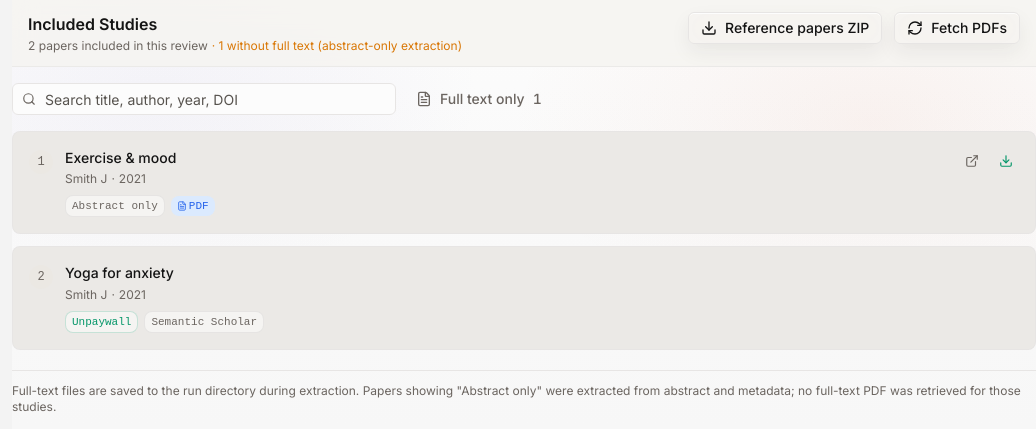
Test: ReferencesView › shows humanised source badges and matches them in search
This screenshot has width=1036, height=429.
Check: the text "Semantic Scholar" is shown, box left=144, top=310, right=264, bottom=332
Check: the text "Unpaywall" is shown, box left=65, top=310, right=138, bottom=332
Type "semantic scholar" into the search field named "Search included studies". click: {"x": 204, "y": 99}
box: left=12, top=83, right=396, bottom=115
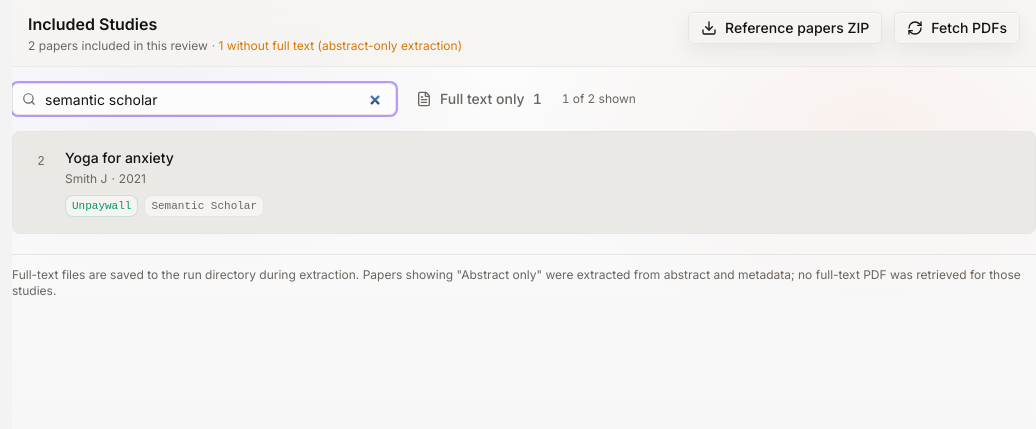
Check: the text "1 of 2 shown" is shown, box left=562, top=91, right=636, bottom=107
